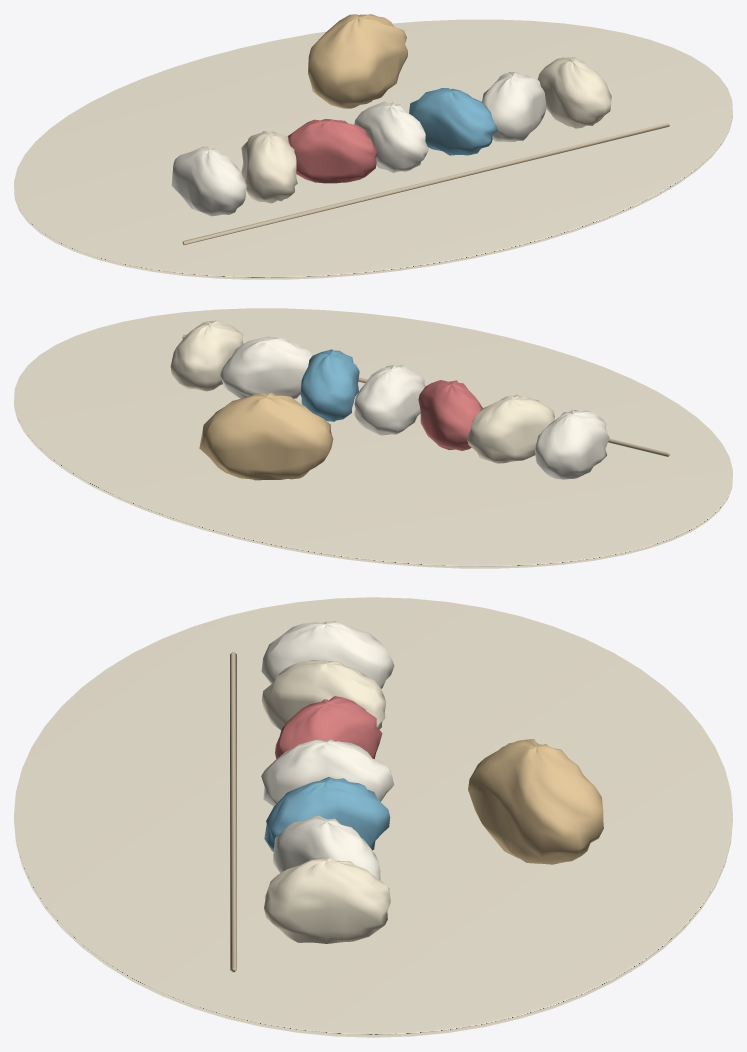
Rendered from asyk.glb.
3 renders of one model, top to bottom at view 1: azimuth 30°, elevation 25°; view 2: azimuth 150°, elevation 25°; view 3: azimuth 270°, elevation 25°, orthographic. The views are drawn at different scales.
Visible parts, largest first — view 1: ground, asyk (×7), saqa, line; view 2: ground, asyk (×7), saqa; view 3: ground, asyk (×7), saqa, line.
Part boxes in pixels (x1,y1,x2,y2): ground: (14, 19, 732, 279); asyk (×7): (171, 57, 611, 216); saqa: (308, 14, 407, 108); line: (182, 122, 669, 244); ground: (14, 308, 732, 568); asyk (×7): (170, 320, 609, 479); saqa: (199, 392, 333, 480); ground: (14, 597, 732, 1037); asyk (×7): (261, 621, 394, 943); saqa: (468, 739, 603, 864); line: (230, 651, 236, 972).
Size of the model in its own units: 4.4 by 0.551 by 3.08.
